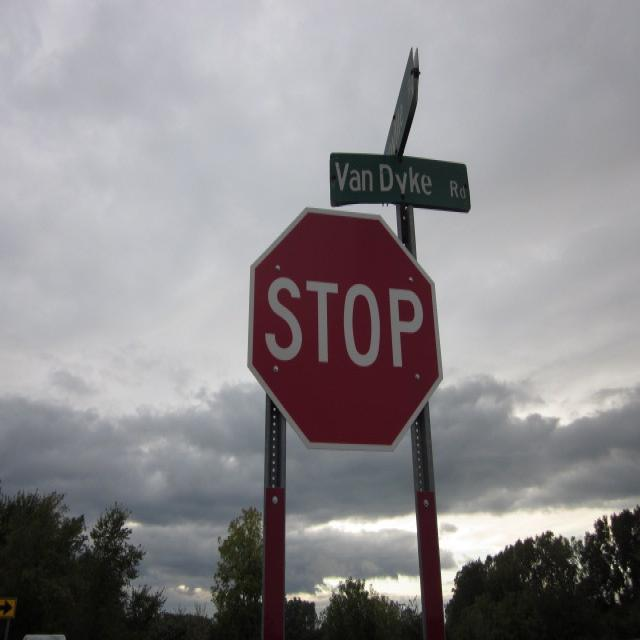stop: (242, 195, 442, 460)
